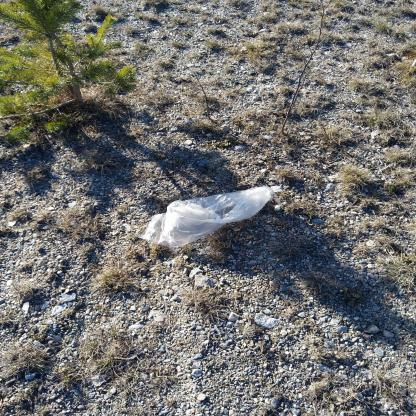Plastic film: (139, 186, 274, 247)
